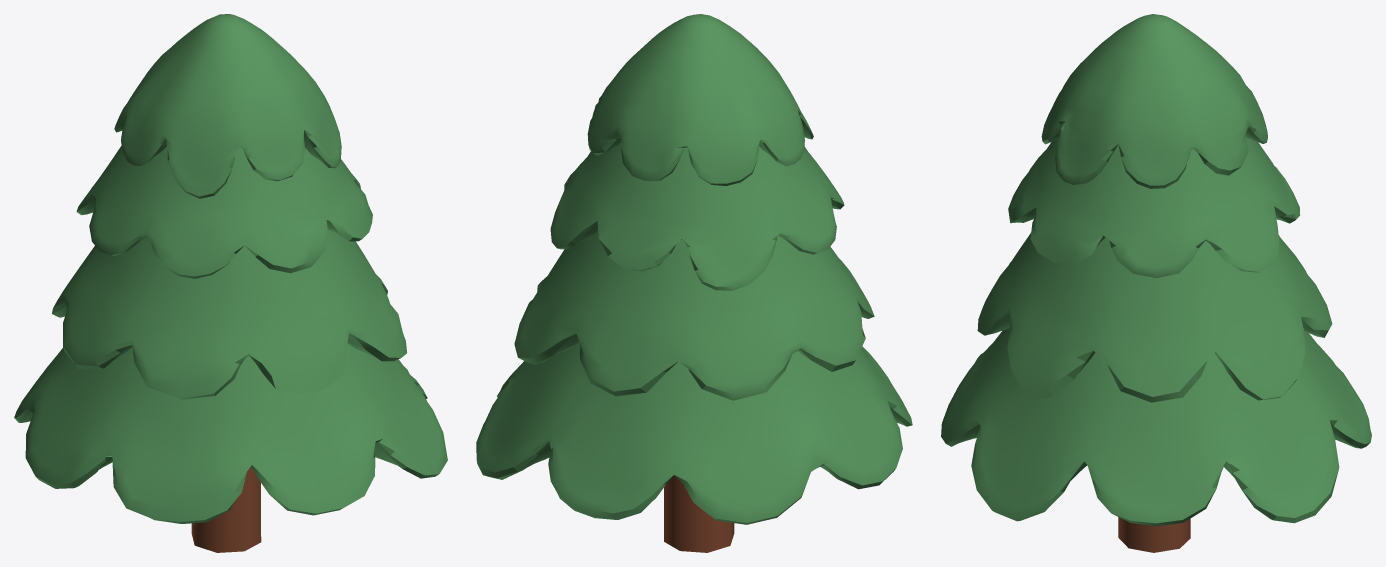
Rendered from Pine Tree.fbx.
The picture shows the model from 3 angles, left to right: view 1: azimuth 30°, elevation 25°; view 2: azimuth 150°, elevation 25°; view 3: azimuth 270°, elevation 25°; orthographic projection.
Parts seen in each view (by area): view 1: Retopo_Cylinder.159, Retopo_Cylinder.001, Retopo_Cylinder.158, Retopo_Cylinder.002, Retopo_Trunk.003; view 2: Retopo_Cylinder.159, Retopo_Cylinder.001, Retopo_Cylinder.002, Retopo_Cylinder.158, Retopo_Trunk.003; view 3: Retopo_Cylinder.159, Retopo_Cylinder.001, Retopo_Cylinder.158, Retopo_Cylinder.002, Retopo_Trunk.003.
Boxes of the visible parts, <box> form: Retopo_Cylinder.159: <box>14,343,447,523</box>; Retopo_Cylinder.001: <box>52,229,406,399</box>; Retopo_Cylinder.158: <box>114,14,341,198</box>; Retopo_Cylinder.002: <box>76,146,372,278</box>; Retopo_Trunk.003: <box>191,467,261,552</box>; Retopo_Cylinder.159: <box>476,342,912,524</box>; Retopo_Cylinder.001: <box>514,234,874,400</box>; Retopo_Cylinder.002: <box>550,144,844,290</box>; Retopo_Cylinder.158: <box>587,14,813,185</box>; Retopo_Trunk.003: <box>664,475,734,552</box>; Retopo_Cylinder.159: <box>941,328,1371,526</box>; Retopo_Cylinder.001: <box>977,232,1332,402</box>; Retopo_Cylinder.158: <box>1041,14,1267,188</box>; Retopo_Cylinder.002: <box>1008,138,1300,277</box>; Retopo_Trunk.003: <box>1118,517,1190,552</box>.
Bounding box in the file's own units: 295 × 392 × 294.
